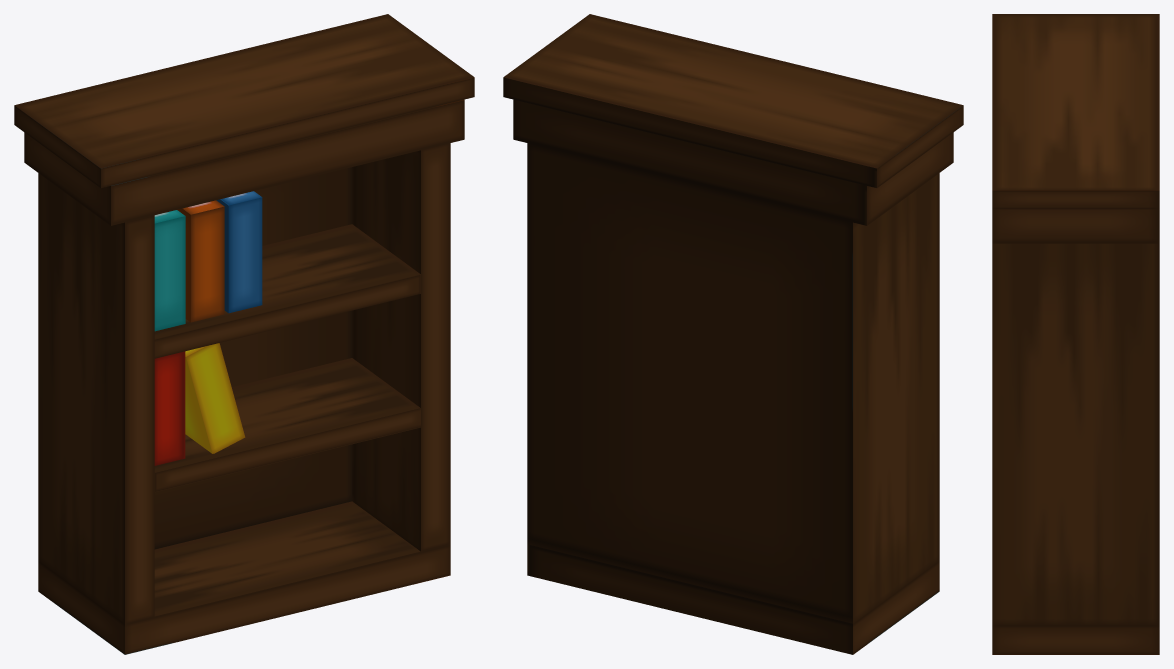
File: BookShell.FBX
3 renders of one model, left to right at view 1: azimuth 30°, elevation 25°; view 2: azimuth 150°, elevation 25°; view 3: azimuth 270°, elevation 25°, orthographic. The views are drawn at different scales.
Visible parts, largest first — view 1: Object005; view 2: Object005; view 3: Object005.
Part boxes in pixels (x1,y1,x2,y2): Object005: (14, 14, 474, 654); Object005: (503, 14, 963, 654); Object005: (992, 14, 1159, 654).
Bounding box in the file's own units: 198 × 249 × 79.47.
Materials: 1 (1 with a texture image).
